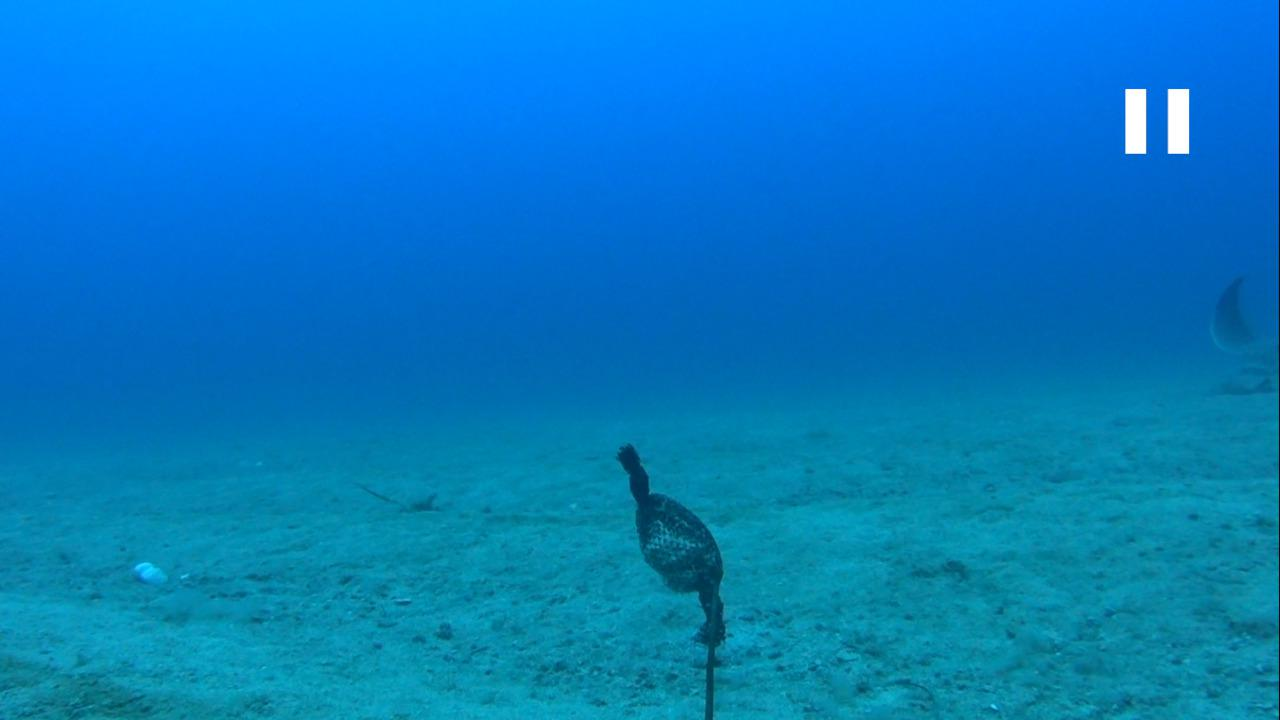myliobatis: (1199, 272, 1279, 380)
